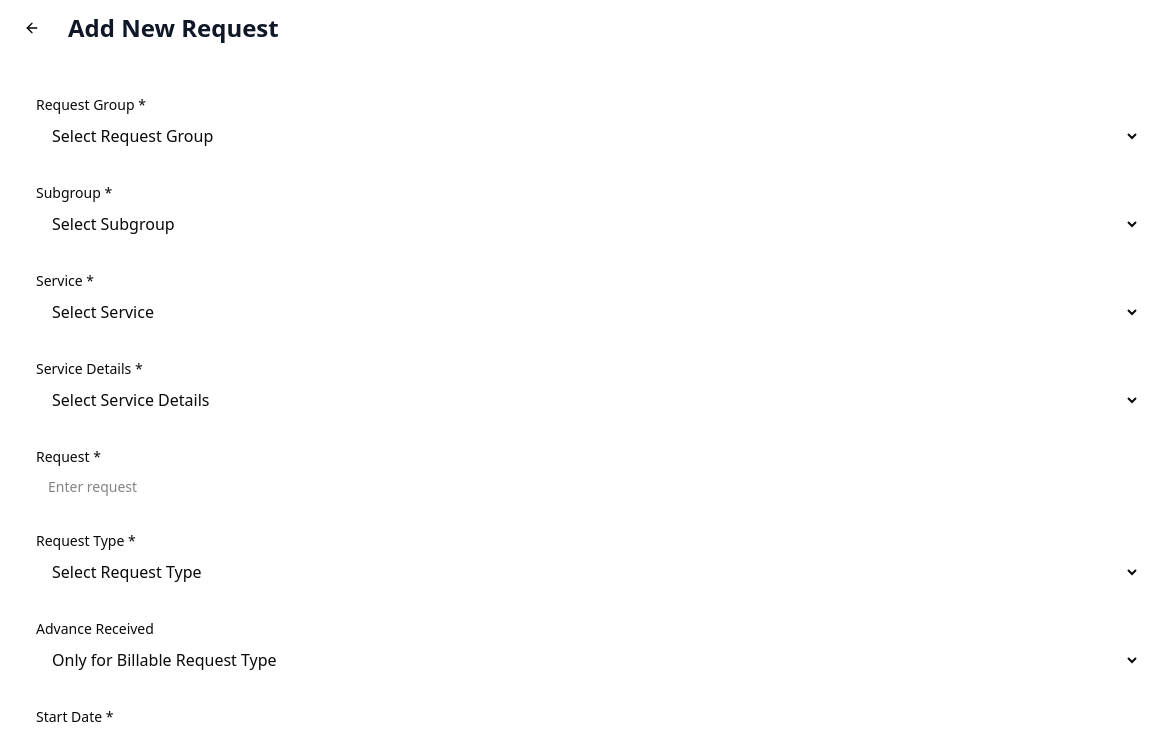
Test case: AddNewRequestContent › Advance Received Field › enables advance received for billable request type
The image size is (1164, 729).
Select "Billable" in the dropdown labelled "Request Type *" at {"x": 588, "y": 572}, box [36,552,1140,592]
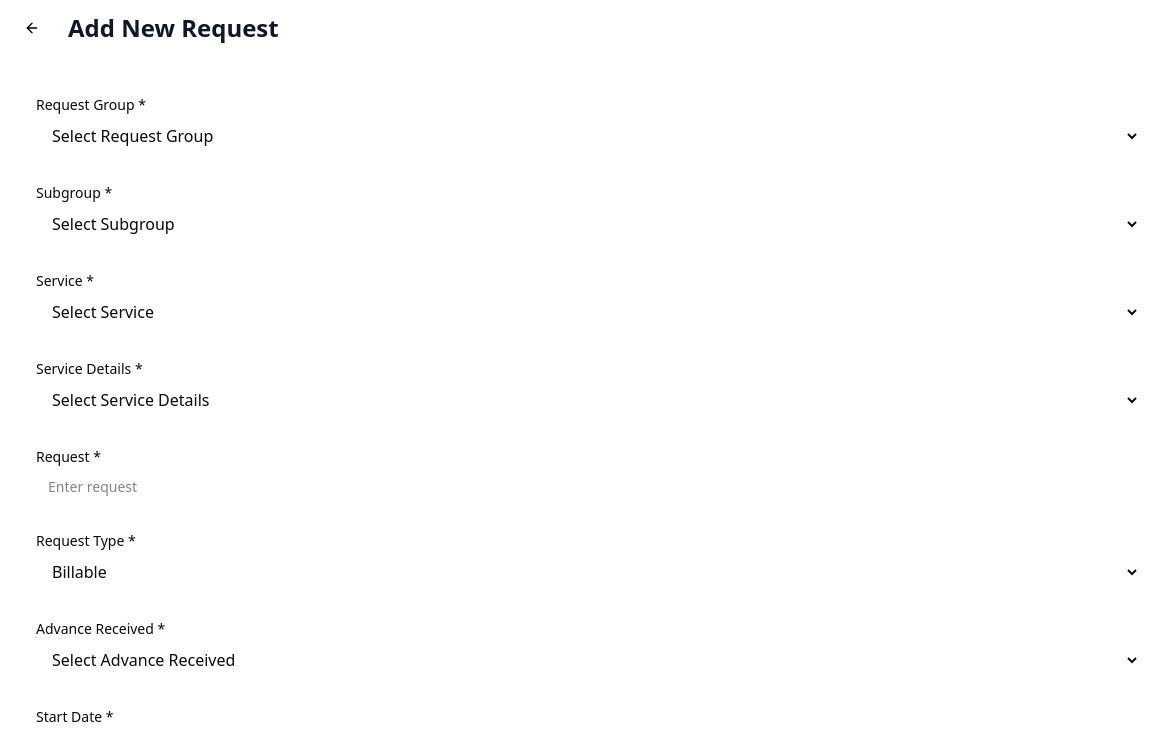
Expected: the dropdown labelled "Advance Received *" is enabled, [36,640,1140,680]
